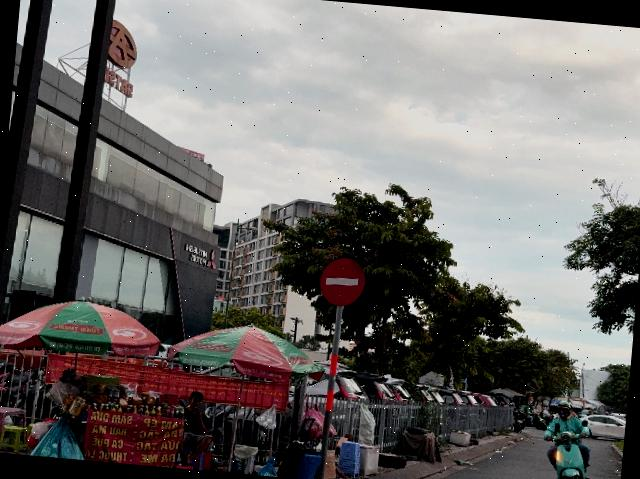cam-di-nguoc-chieu: (318, 255, 366, 308)
